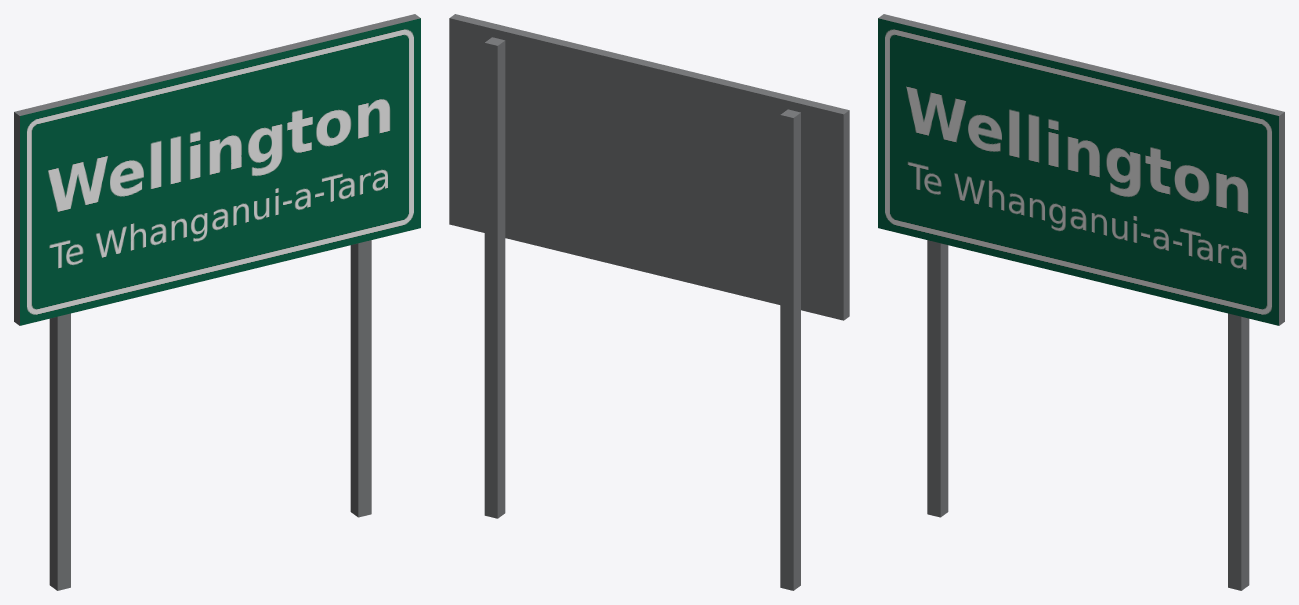
Rendered from sign_town.obj.
3 views of the same model, side by side, from view 1: azimuth 30°, elevation 25°; view 2: azimuth 150°, elevation 25°; view 3: azimuth 330°, elevation 25° (orthographic).
Visible parts, largest first — view 1: camo, posts, back; view 2: back, posts; view 3: camo, posts, back.
Boxes of the visible parts, <box> form: camo: <box>20,18,420,325</box>; posts: <box>49,240,371,590</box>; back: <box>14,14,420,325</box>; back: <box>449,14,849,320</box>; posts: <box>484,37,800,590</box>; camo: <box>878,18,1278,325</box>; posts: <box>927,240,1249,590</box>; back: <box>878,14,1284,325</box>.
Size of the model in its own units: 2.4 by 2.8 by 0.14.
Materials: 1 (1 with a texture image).
